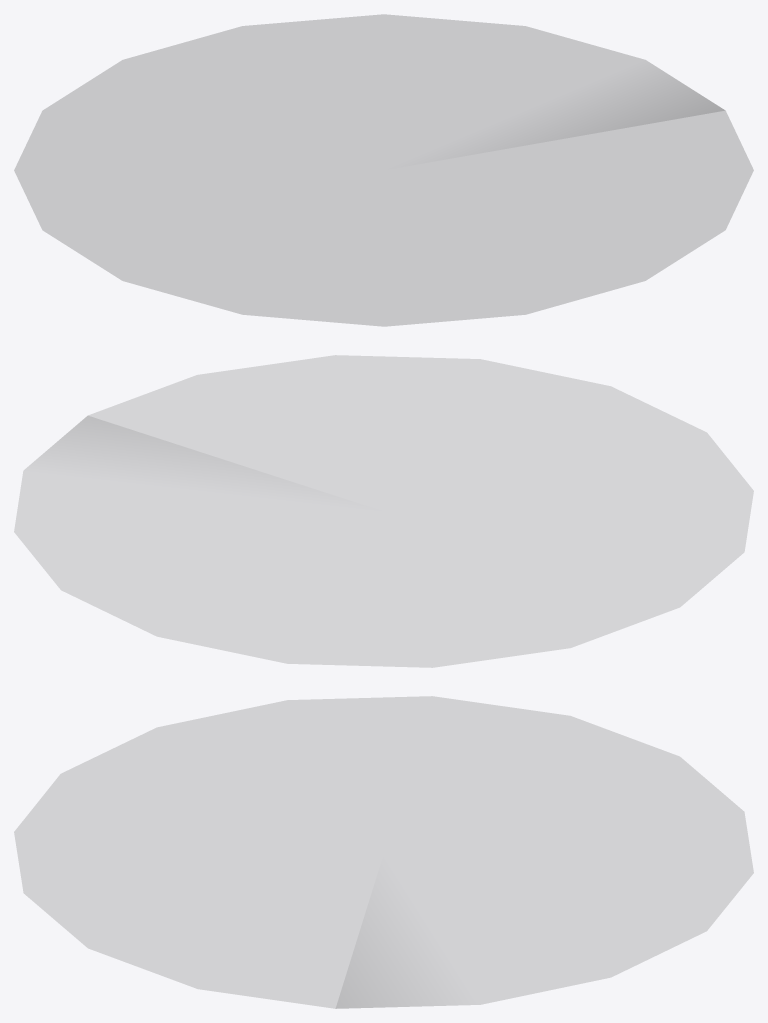
3 renders of one model, top to bottom at view 1: azimuth 30°, elevation 25°; view 2: azimuth 150°, elevation 25°; view 3: azimuth 270°, elevation 25°, orthographic.
Visible parts, largest first — view 1: Joint_0_Object_0; view 2: Joint_0_Object_0; view 3: Joint_0_Object_0.
Part boxes in pixels (bbox=[...]): Joint_0_Object_0: bbox=[14, 14, 753, 326]; Joint_0_Object_0: bbox=[14, 355, 753, 667]; Joint_0_Object_0: bbox=[14, 696, 753, 1008].
Bounding box in the file's own units: 445 × 0 × 445.
Materials: 1 (1 with a texture image).
